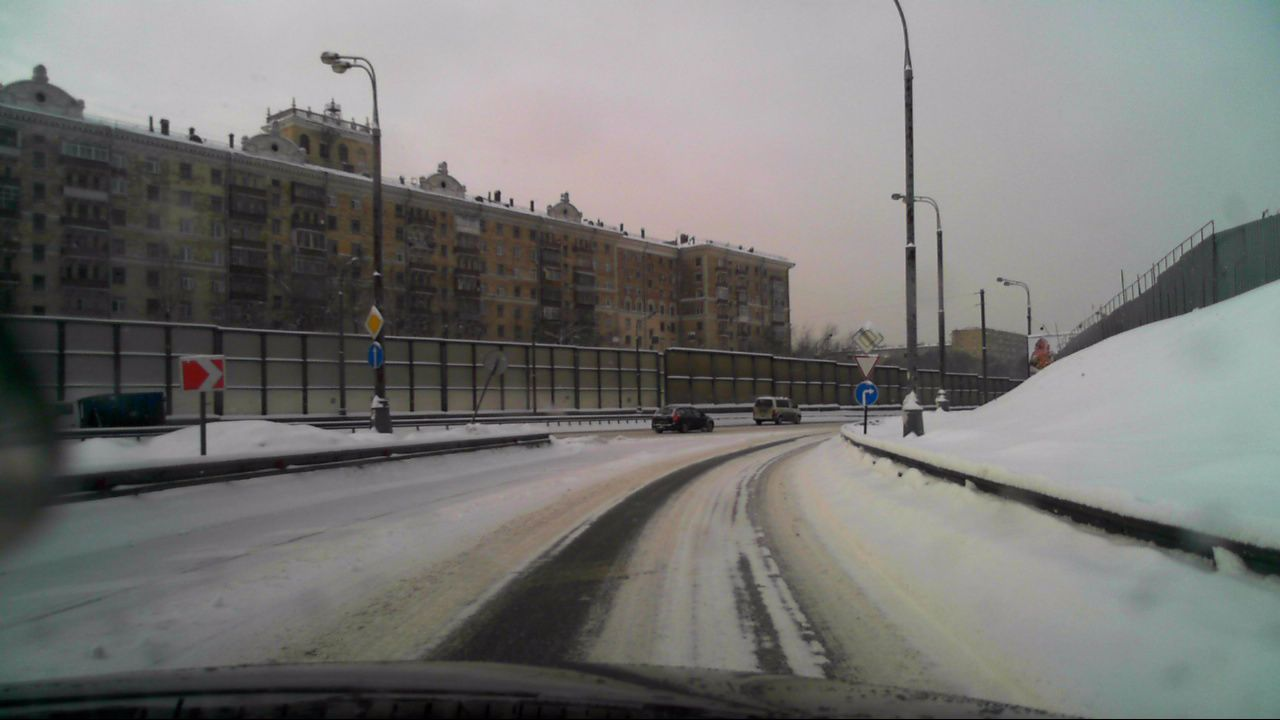main road: (853, 322, 882, 353)
